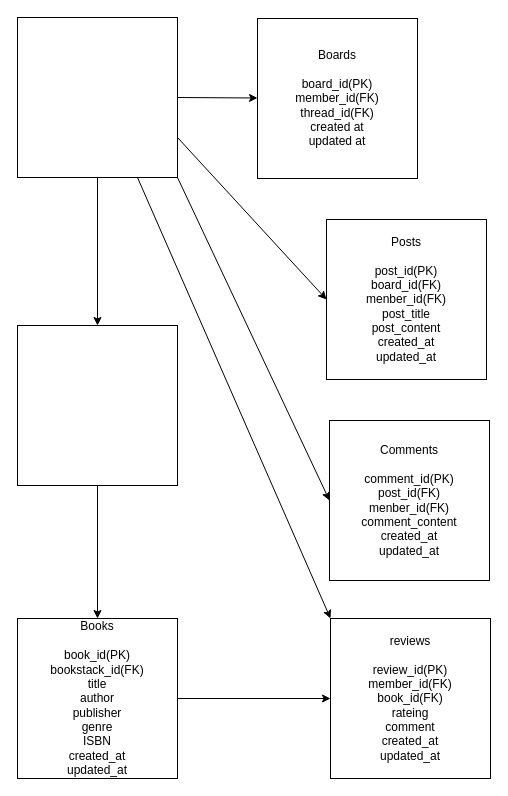
Some shapes in this 508 by 796 pixel diagram are drawn without their labels. The box of each missing label's shape, as (x1, y1, x2, y2) in pixels:
Bookstacks bookstack_id(PK) member_id(FK) bookstack_name created_at updated_at: (16, 324, 178, 486)
Members member_id(PK) name password email remember_token created_at updated_at: (16, 16, 178, 178)
